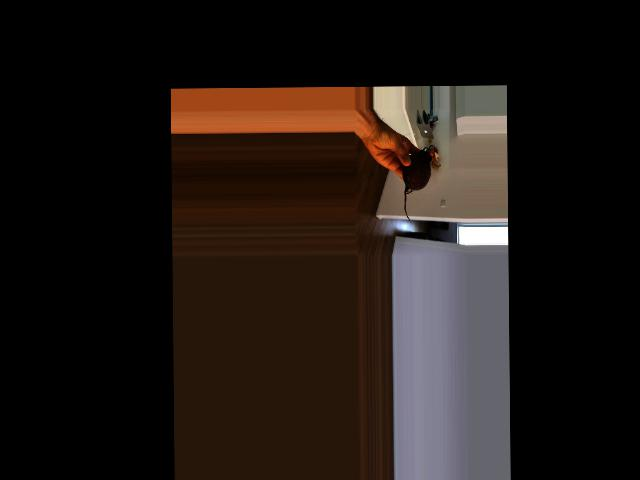beet: (402, 147, 431, 221)
